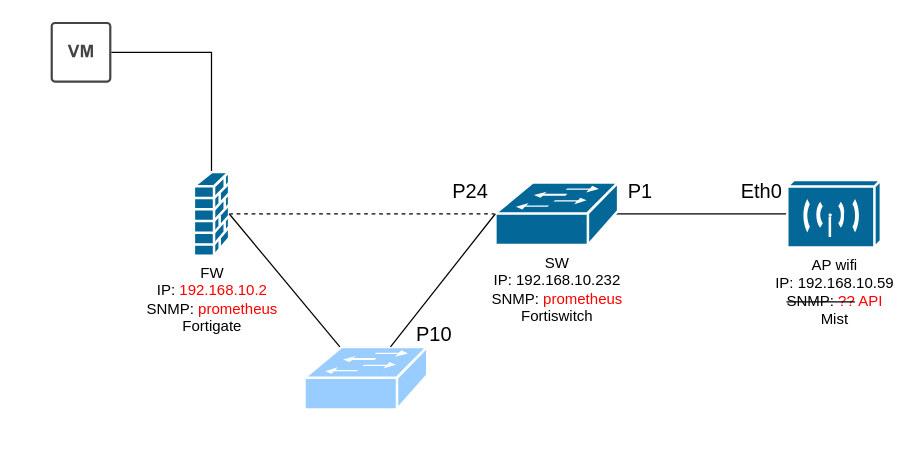
Image size: 915x475. Some labels were removed from this diagram. Here are the shapes that lost their labels. From the top down, the box of each, then its label:
(50, 21, 111, 82): Prometheus IP: 192.168.10.42
(303, 345, 428, 410): SW USW-Pro-24-PoE Ubiquiti
